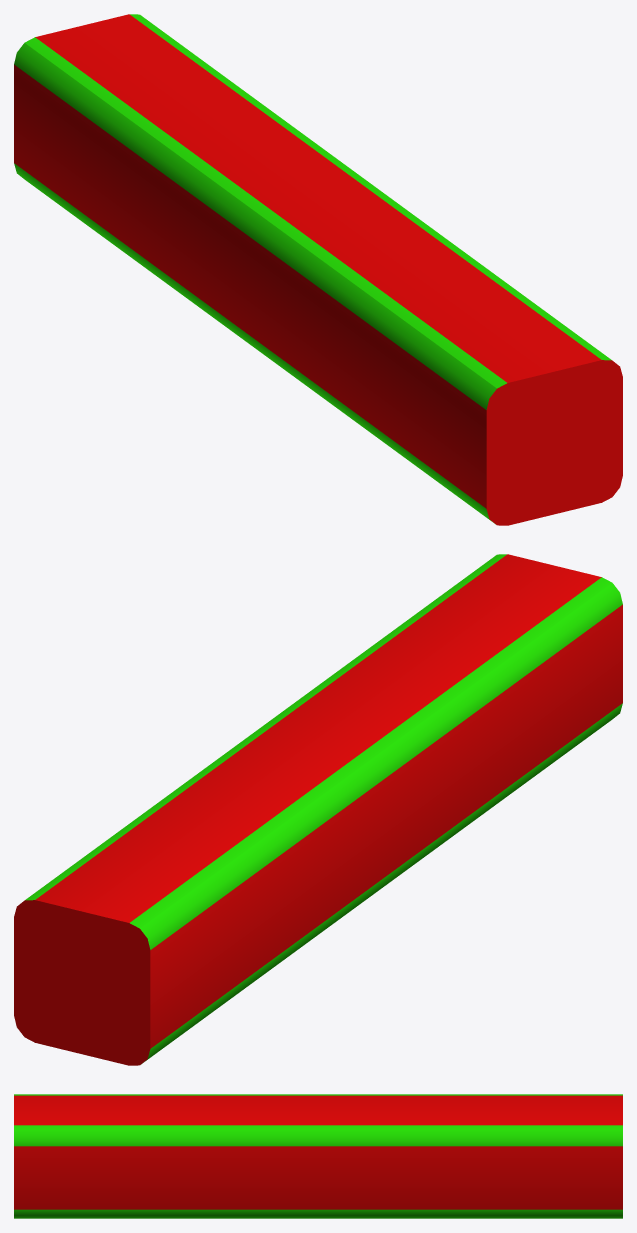
The model's file is InceYol_Uzun.fbx.
3 views of the same model, one above another, from view 1: azimuth 30°, elevation 25°; view 2: azimuth 150°, elevation 25°; view 3: azimuth 270°, elevation 25° (orthographic). The views are drawn at different scales.
Parts seen in each view (by area): view 1: InceYol_Uzun; view 2: InceYol_Uzun; view 3: InceYol_Uzun.
Part boxes in pixels (x1=…): InceYol_Uzun: x1=14, y1=14, x2=622, y2=525; InceYol_Uzun: x1=14, y1=554, x2=622, y2=1065; InceYol_Uzun: x1=14, y1=1094, x2=622, y2=1218.
Bounding box in the file's own units: 50.01 × 49.99 × 300.
